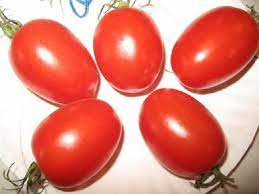tomato: (142, 87, 241, 180), (7, 14, 103, 108), (29, 96, 122, 186), (80, 4, 164, 91), (171, 1, 259, 82)
